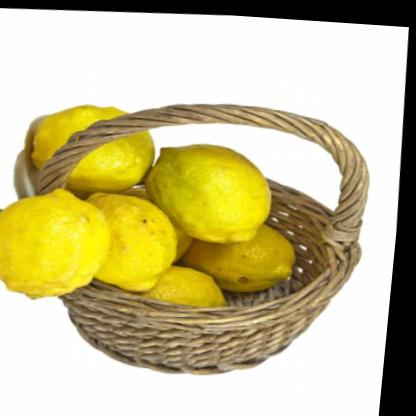lemon: (25, 77, 174, 213), (0, 172, 131, 312), (147, 123, 289, 252)
